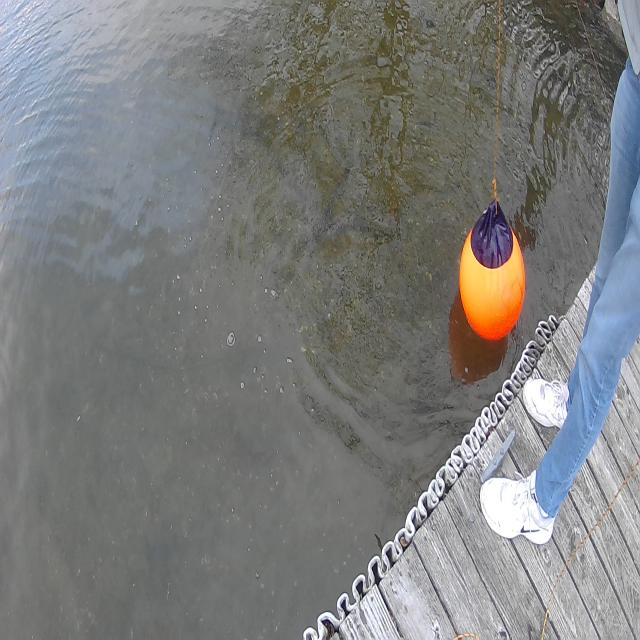Buoy: (454, 179, 532, 358)
